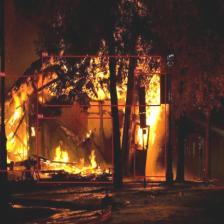fire: (42, 56, 161, 106), (37, 118, 113, 182), (0, 75, 38, 171), (134, 73, 166, 177)
